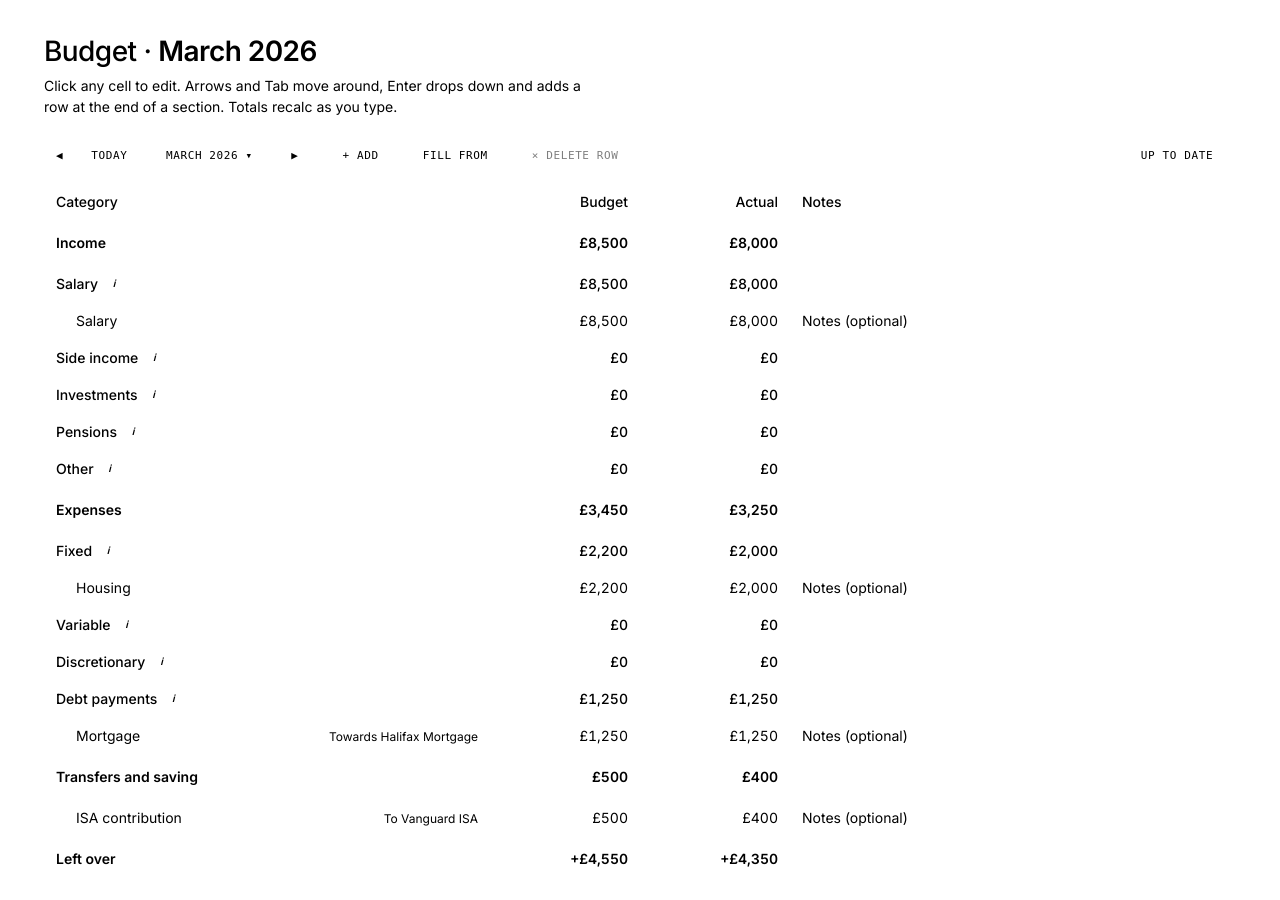
BudgetSheet — the Add drawer's account picker › an account already anchored this month is no longer on offer
Click the button "+ Add": (361, 156) [331,141,391,171]
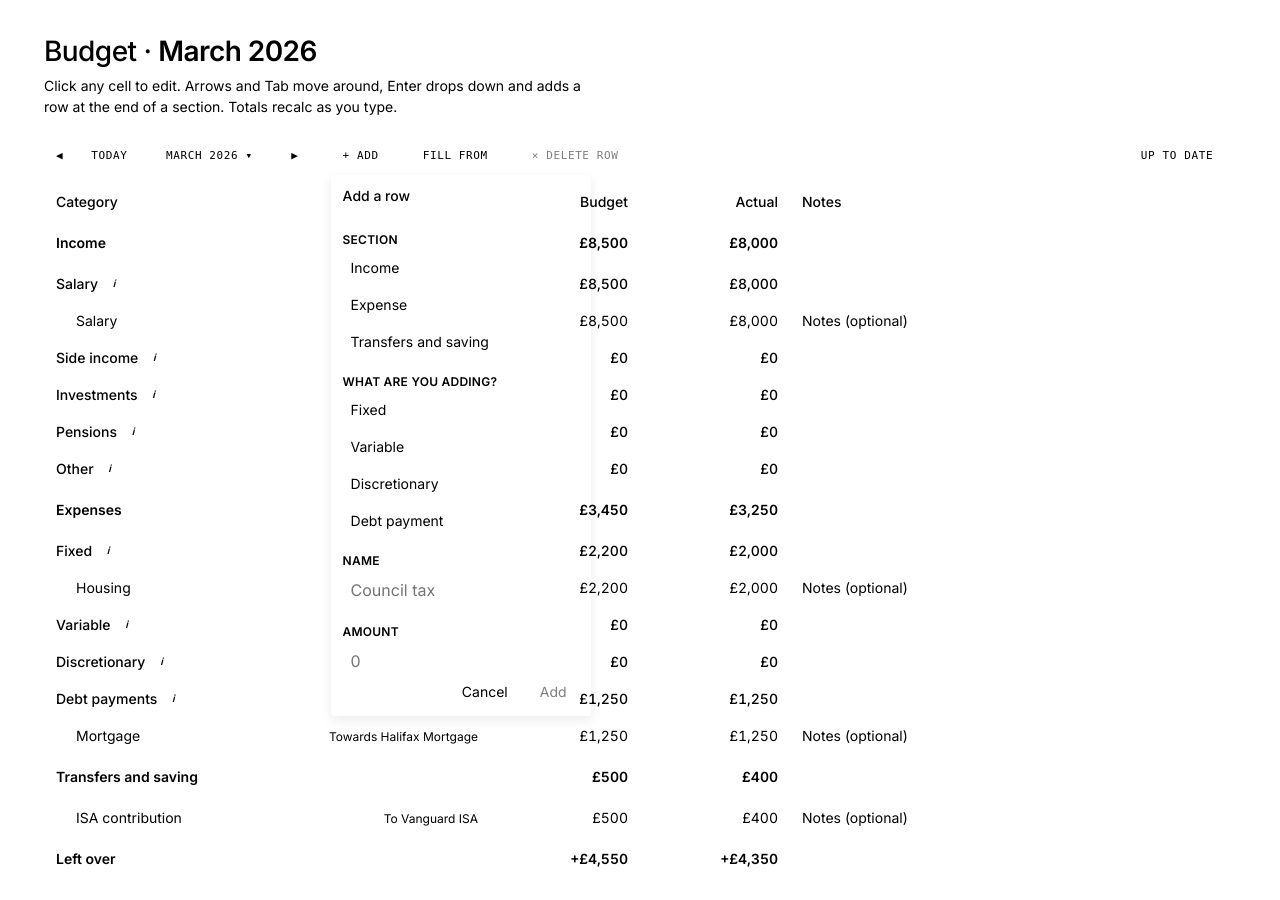
Click the button "Transfers and saving": (461, 341) [343,325,579,358]
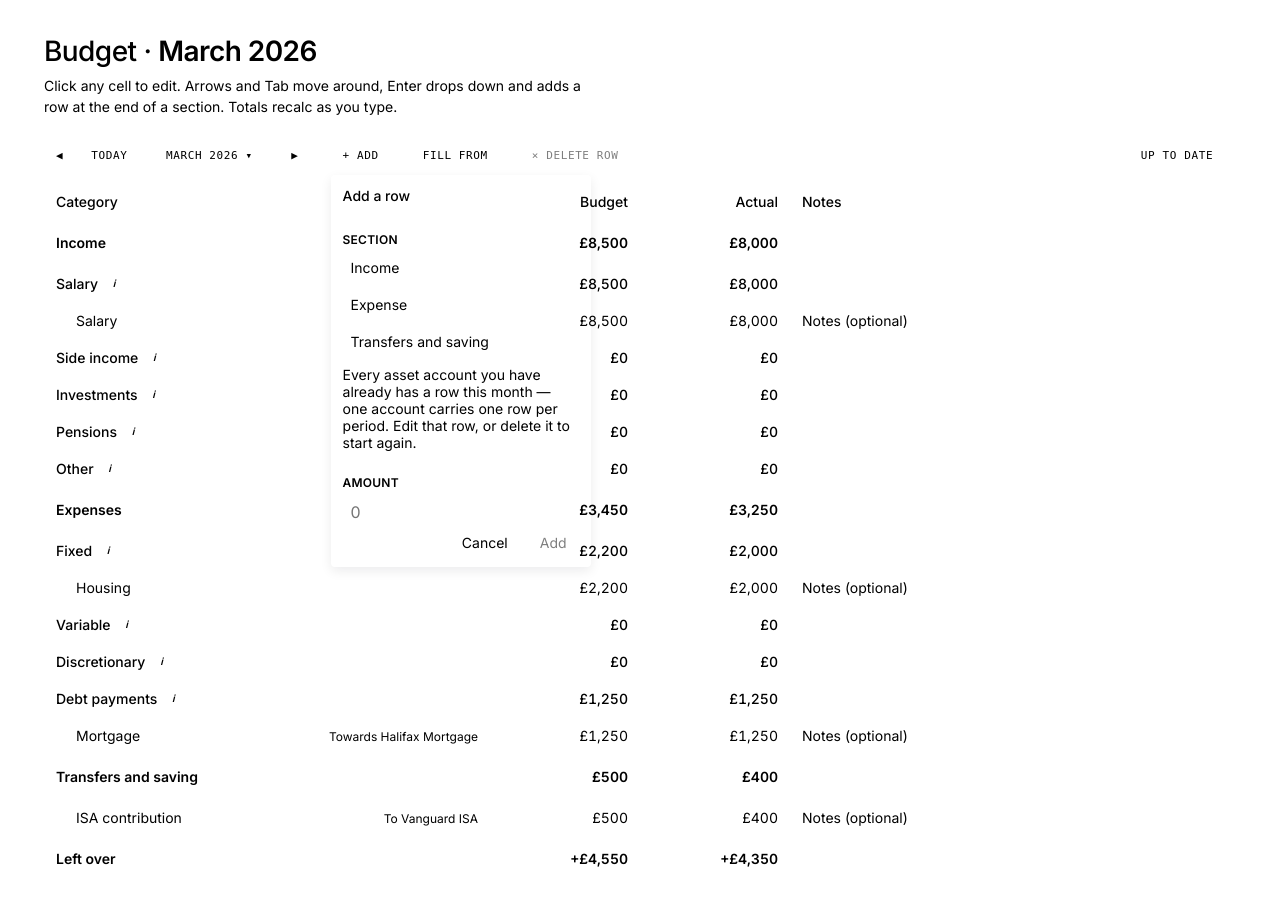
Now the text "already has a row this month" is shown, box [343,366,570,451]
